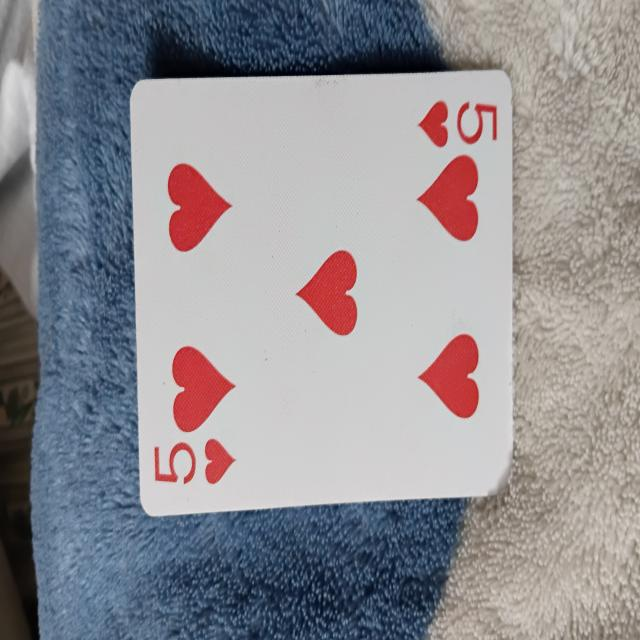5H: (131, 79, 518, 495)
